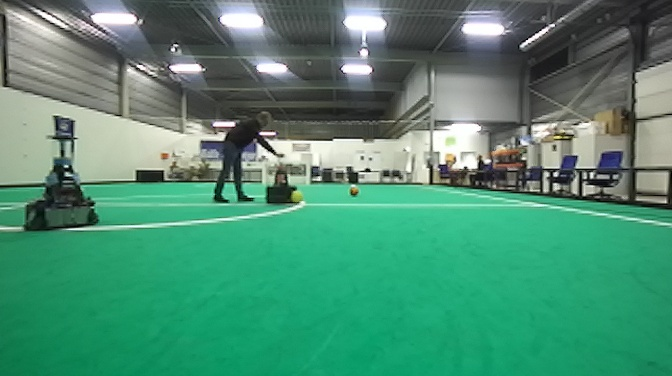ball: (290, 189, 306, 205), (347, 183, 361, 197)
goal: (261, 163, 311, 187)
goalpost: (306, 163, 311, 188), (261, 163, 265, 187)
human: (210, 109, 288, 205)
robot: (19, 112, 101, 236), (263, 154, 298, 205)
